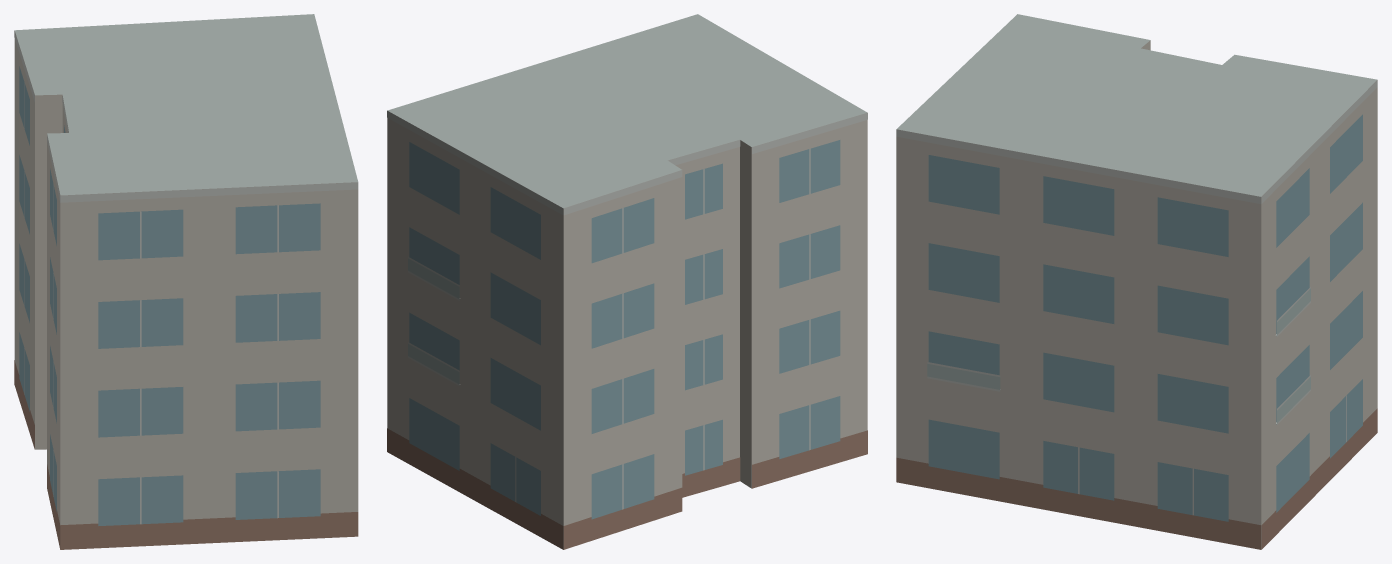
File: survey-upis-32567494.glb
The picture shows the model from 3 angles, left to right: view 1: azimuth 30°, elevation 25°; view 2: azimuth 150°, elevation 25°; view 3: azimuth 270°, elevation 25°; orthographic projection. The views are drawn at different scales.
Visible parts, largest first — view 1: survey-upis-32567494.tmp; view 2: survey-upis-32567494.tmp; view 3: survey-upis-32567494.tmp.
Part boxes in pixels (bbox=[...]): survey-upis-32567494.tmp: bbox=[14, 14, 358, 549]; survey-upis-32567494.tmp: bbox=[387, 14, 867, 549]; survey-upis-32567494.tmp: bbox=[896, 14, 1377, 549].
Bounding box in the file's own units: 13.01 × 11.7 × 14.47.
